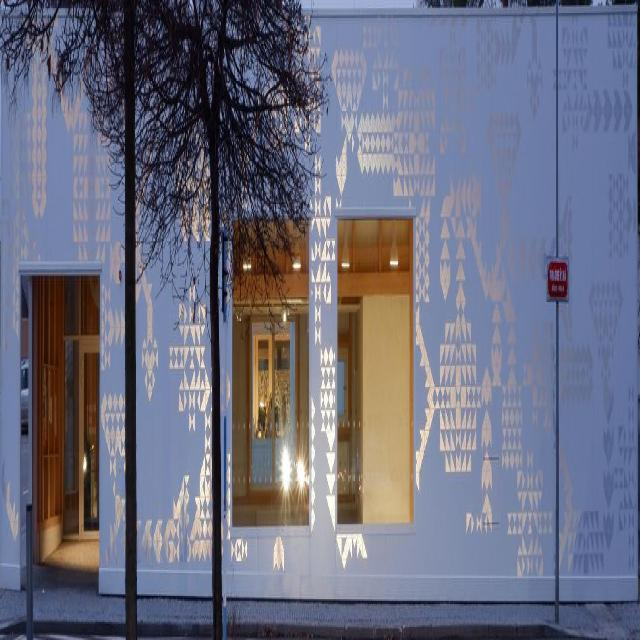door: (78, 330, 100, 540)
plant: (0, 0, 332, 638)
wall: (0, 0, 640, 607)
windows: (336, 218, 414, 527), (232, 219, 308, 522), (63, 271, 101, 539)
